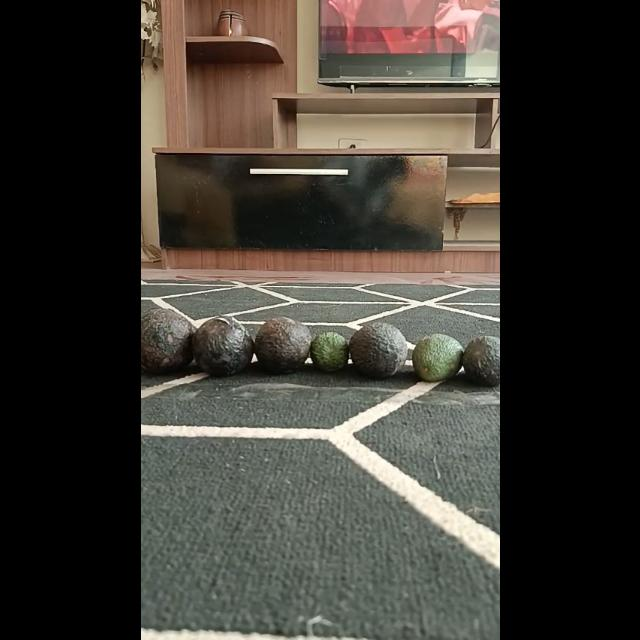Primera: (191, 315, 253, 375), (140, 308, 194, 374), (349, 322, 407, 378), (254, 316, 312, 372)
Segunda: (411, 333, 463, 383), (461, 335, 499, 387)
Tercera: (310, 332, 348, 372)
